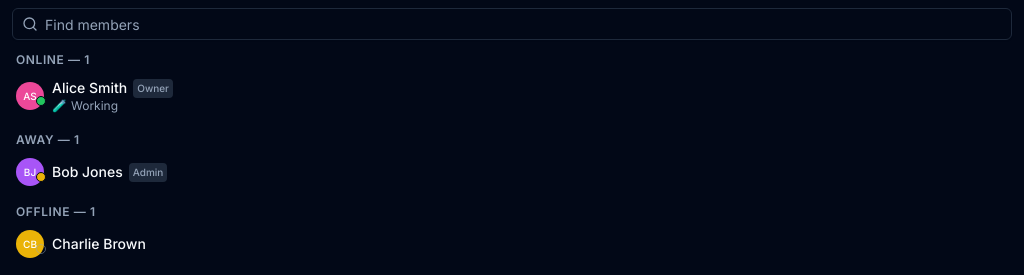
Scenario: MemberList › filters members when search query typed
Type "bob" into the field with placeholder "Find members" at (512,24), box [12, 8, 1012, 40]
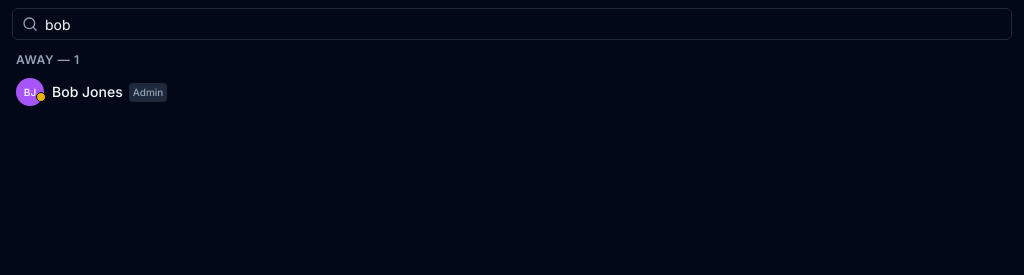
Expected: the text "Bob Jones" is shown, [52, 82, 123, 102]
Result: the button "Alice Smith" is gone
Result: the button "Charlie Brown" is gone
